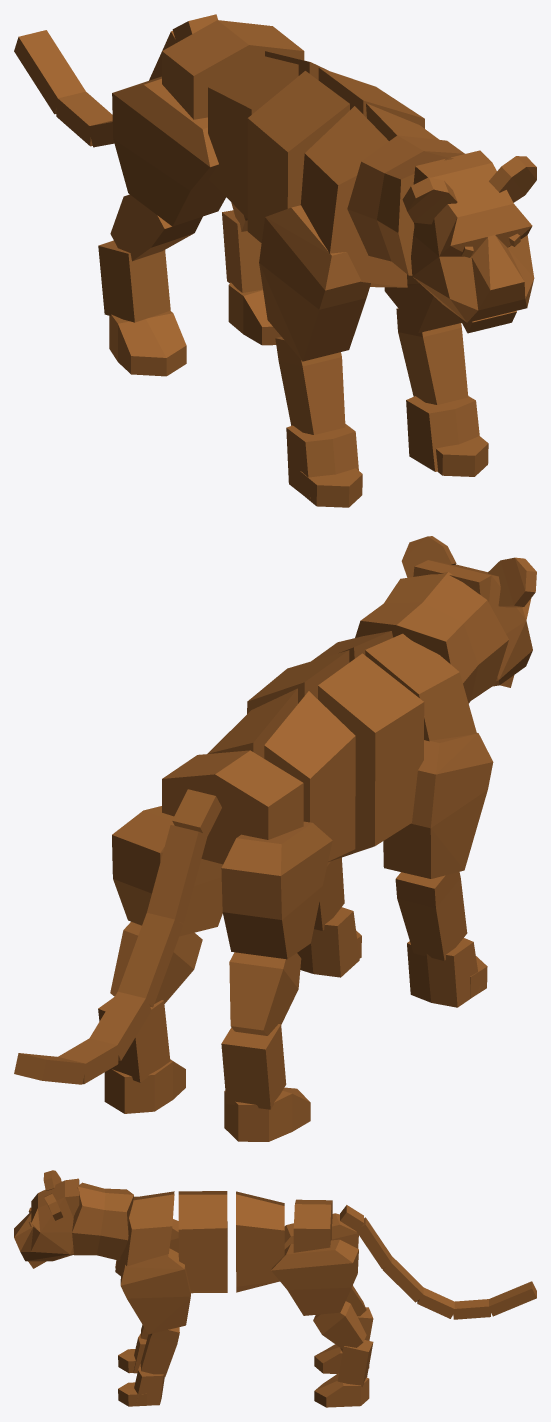
File: Cougar Proxy.fbx
3 renders of one model, top to bottom at view 1: azimuth 30°, elevation 25°; view 2: azimuth 150°, elevation 25°; view 3: azimuth 270°, elevation 25°, orthographic. The views are drawn at different scales.
Visible parts, largest first — view 1: Head, R UpperArm, R Thigh, Spine1, Spine2, Neck, Spine, Pelvis, R Forearm, L Forearm, R HorseLink, R Foot (+13 smaller); view 2: Spine1, R Thigh, Spine, R UpperArm, Neck, Pelvis, L Thigh, Spine2, R Calf, R Forearm, R HorseLink, Tail1 (+15 smaller); view 3: Spine1, L Thigh, L UpperArm, Spine, Neck, Head, Spine2, Pelvis, L Calf, L Forearm, L Foot, L HorseLink (+13 smaller).
Part boxes in pixels (x1=…): Head: x1=411, y1=150, x2=534, y2=322; R UpperArm: x1=259, y1=205, x2=370, y2=361; R Thigh: x1=112, y1=76, x2=226, y2=226; Spine1: x1=247, y1=67, x2=424, y2=242; Spine2: x1=300, y1=103, x2=439, y2=287; Neck: x1=347, y1=135, x2=465, y2=275; Spine: x1=208, y1=51, x2=328, y2=218; Pelvis: x1=162, y1=20, x2=304, y2=119; R Forearm: x1=275, y1=336, x2=345, y2=434; L Forearm: x1=396, y1=308, x2=468, y2=404; R HorseLink: x1=98, y1=240, x2=170, y2=322; R Foot: x1=109, y1=310, x2=186, y2=376; Spine1: x1=247, y1=650, x2=424, y2=861; R Thigh: x1=221, y1=821, x2=332, y2=959; Spine: x1=207, y1=688, x2=355, y2=861; R UpperArm: x1=383, y1=733, x2=493, y2=878; Neck: x1=355, y1=572, x2=508, y2=703; Pelvis: x1=162, y1=750, x2=303, y2=864; L Thigh: x1=112, y1=806, x2=222, y2=936; Spine2: x1=311, y1=631, x2=476, y2=741; R Calf: x1=229, y1=952, x2=301, y2=1035; R Forearm: x1=395, y1=872, x2=467, y2=960; R HorseLink: x1=221, y1=1024, x2=286, y2=1109; Tail1: x1=147, y1=825, x2=207, y2=923; Spine1: x1=178, y1=1191, x2=227, y2=1293; L Thigh: x1=271, y1=1239, x2=358, y2=1315; L UpperArm: x1=120, y1=1248, x2=190, y2=1334; Spine: x1=236, y1=1191, x2=284, y2=1292; Neck: x1=72, y1=1182, x2=133, y2=1260; Head: x1=14, y1=1178, x2=79, y2=1261; Spine2: x1=115, y1=1191, x2=174, y2=1275; Pelvis: x1=293, y1=1199, x2=332, y2=1252; L Calf: x1=313, y1=1301, x2=366, y2=1349; L Forearm: x1=140, y1=1327, x2=179, y2=1376; L Foot: x1=314, y1=1373, x2=369, y2=1407; L HorseLink: x1=337, y1=1340, x2=373, y2=1387.
Size of the model in its own units: 54.05 by 106 by 249.
